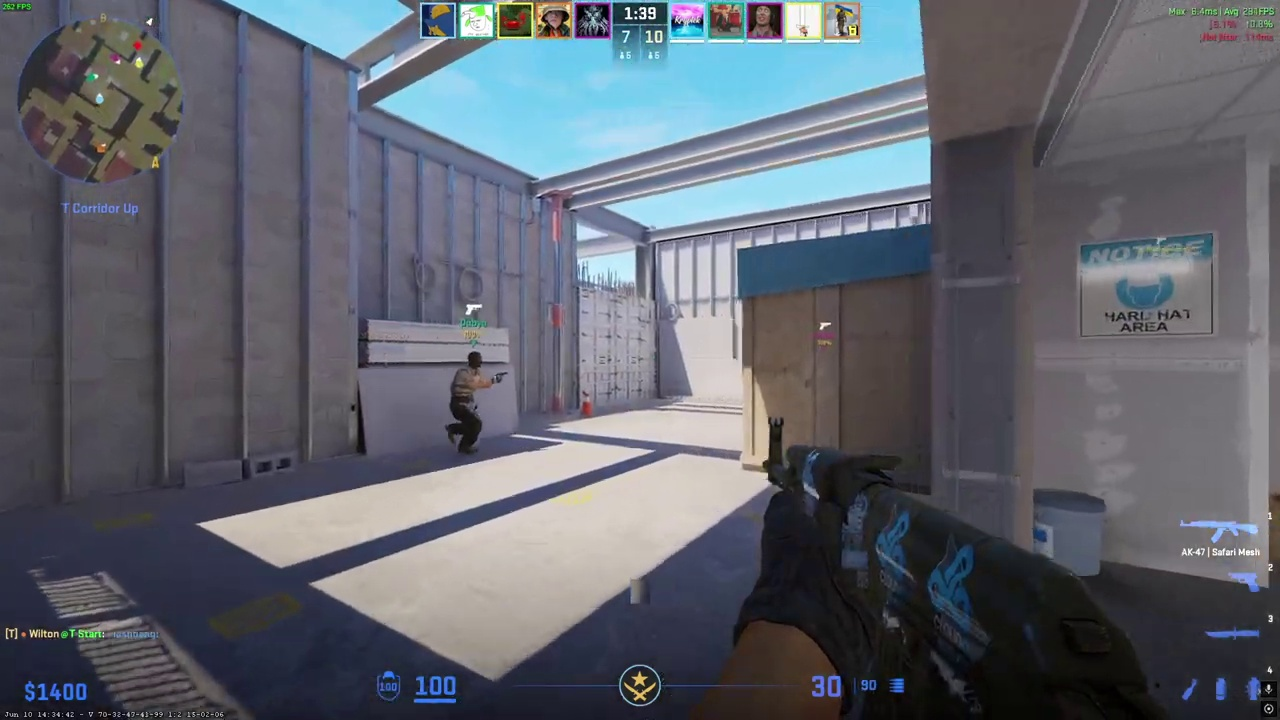Terrorist: (447, 351, 487, 455)
